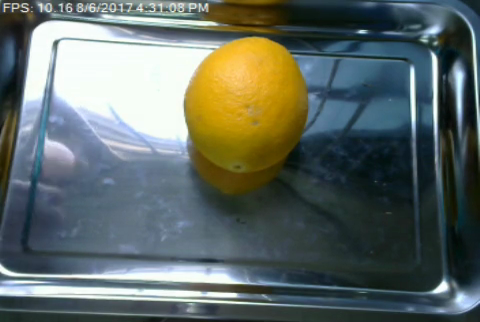Orange: (183, 37, 310, 174)
